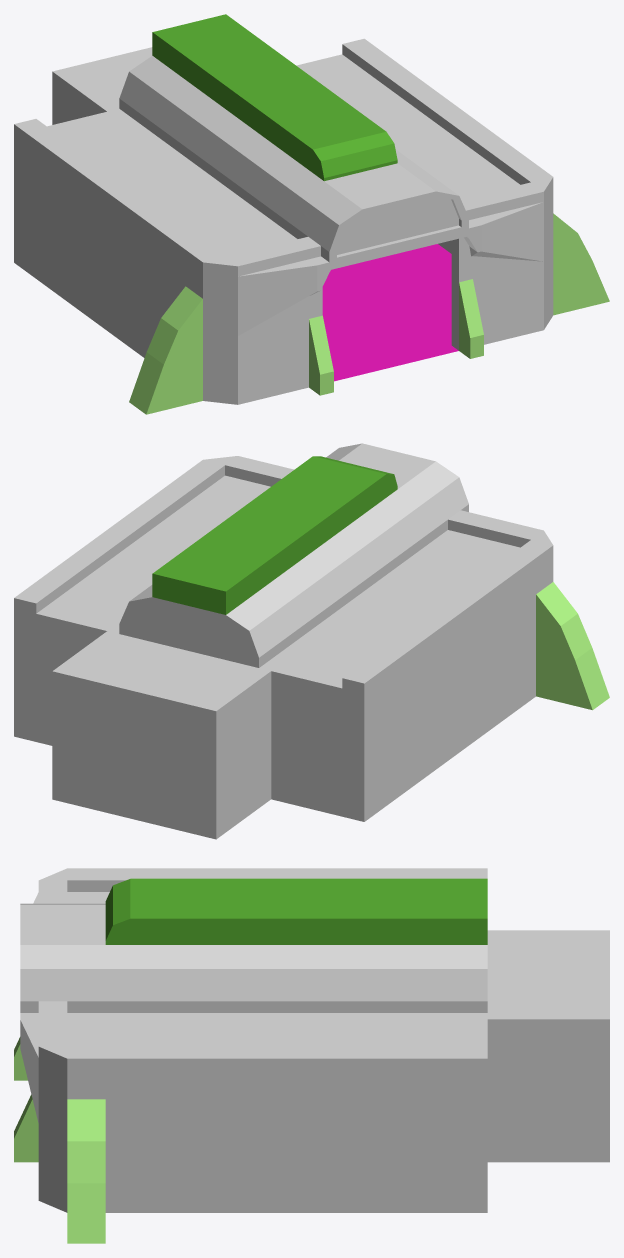
The model's file is grand_hangar.fbx.
3 renders of one model, top to bottom at view 1: azimuth 30°, elevation 25°; view 2: azimuth 150°, elevation 25°; view 3: azimuth 270°, elevation 25°, orthographic. The views are drawn at different scales.
Visible parts, largest first — view 1: Plane.008; view 2: Plane.008; view 3: Plane.008.
Boxes of the visible parts, x1=… form: Plane.008: x1=14, y1=14, x2=609, y2=414; Plane.008: x1=14, y1=443, x2=609, y2=839; Plane.008: x1=14, y1=868, x2=609, y2=1243.
Size of the model in its own units: 444 by 180 by 444.
